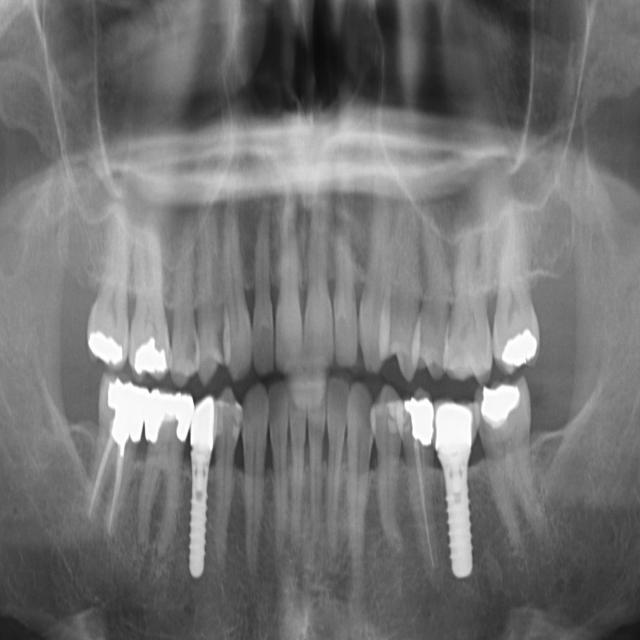dolgu: (476, 377, 522, 425), (495, 318, 539, 366), (132, 329, 172, 377), (398, 393, 435, 443), (88, 328, 129, 370)
implant: (432, 389, 485, 586), (182, 386, 218, 576)
kanal-tedavisi: (83, 419, 137, 539), (404, 450, 440, 576)
kaplama: (104, 380, 144, 438), (145, 387, 191, 435)
